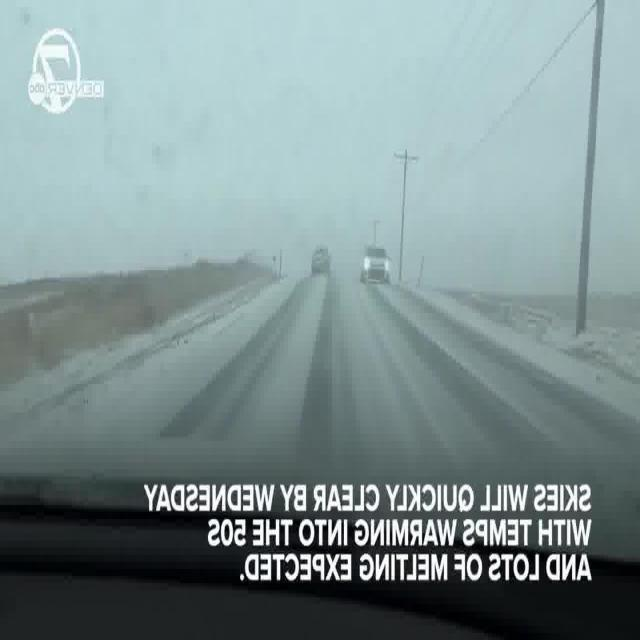Car: (358, 244, 394, 286), (308, 240, 334, 277)
